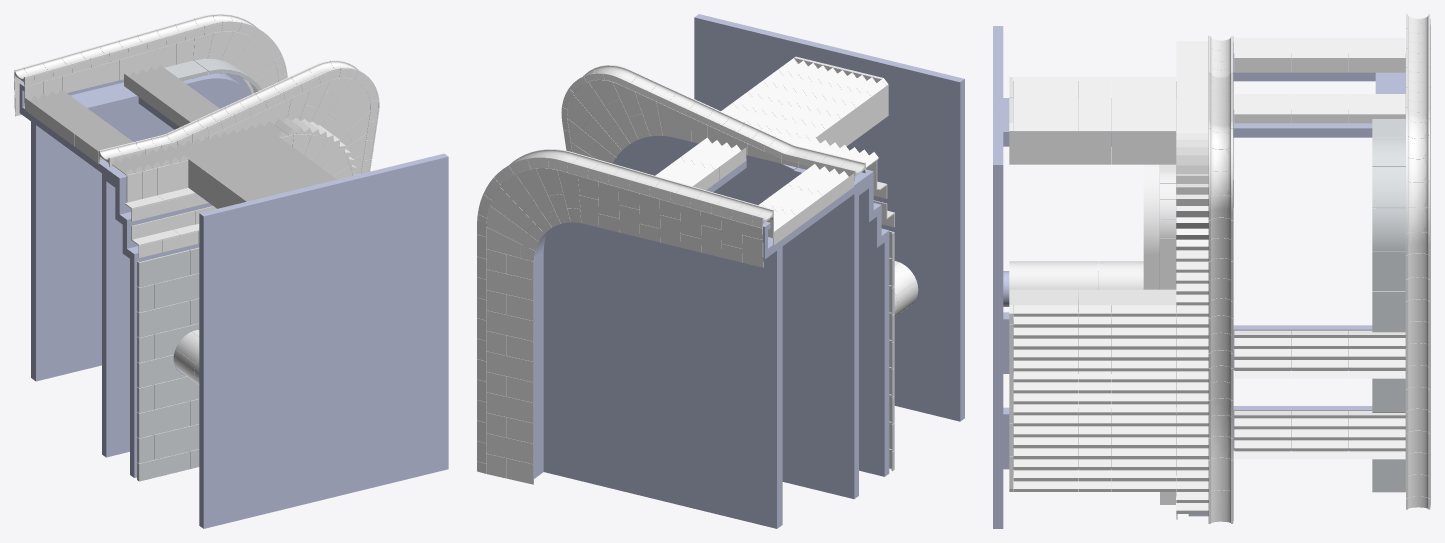
Rendered from MockUp-K1.gltf.
3 views of the same model, side by side, from view 1: azimuth 30°, elevation 25°; view 2: azimuth 150°, elevation 25°; view 3: azimuth 270°, elevation 25° (orthographic). The views are drawn at different scales.
Visible parts, largest first — view 1: NAUO1, NAUO24, NAUO28, NAUO29, NAUO15, NAUO26, NAUO27, NAUO41, NAUO44, NAUO37, NAUO30, NAUO553 (+5 smaller); view 2: NAUO1, NAUO546, NAUO691, NAUO688, NAUO673, NAUO676, NAUO674, NAUO675, NAUO677, NAUO706, NAUO715, NAUO708 (+17 smaller); view 3: NAUO1, NAUO15, NAUO399 (×2), NAUO400 (×2), NAUO401 (×2), NAUO404 (×2), NAUO406 (×2), NAUO408 (×2), NAUO403 (×2), NAUO405 (×2), NAUO407 (×2), NAUO372 (+43 smaller).
Part boxes in pixels (x1,y1,x2,y2): NAUO1: (19, 71, 448, 528); NAUO24: (137, 250, 189, 287); NAUO28: (137, 300, 189, 337); NAUO29: (137, 401, 189, 438); NAUO15: (164, 58, 262, 92); NAUO26: (154, 273, 199, 308); NAUO27: (154, 424, 199, 459); NAUO41: (154, 377, 199, 409); NAUO44: (137, 355, 184, 387); NAUO37: (137, 451, 189, 481); NAUO30: (154, 323, 199, 359); NAUO553: (329, 79, 365, 121); NAUO1: (524, 14, 964, 528); NAUO546: (573, 82, 616, 131); NAUO691: (490, 187, 533, 232); NAUO688: (516, 168, 554, 214); NAUO673: (486, 433, 519, 460); NAUO676: (486, 310, 519, 338); NAUO674: (486, 392, 519, 419); NAUO675: (486, 351, 519, 378); NAUO677: (486, 269, 519, 297); NAUO706: (598, 181, 619, 218); NAUO715: (486, 227, 521, 257); NAUO708: (639, 193, 660, 228); NAUO1: (993, 26, 1405, 528); NAUO15: (1372, 119, 1405, 492); NAUO399 (×2): (1348, 338, 1405, 429); NAUO400 (×2): (1348, 349, 1405, 440); NAUO401 (×2): (1348, 360, 1405, 451); NAUO404 (×2): (1234, 338, 1291, 429); NAUO406 (×2): (1234, 349, 1291, 440); NAUO408 (×2): (1234, 360, 1291, 451); NAUO403 (×2): (1291, 338, 1348, 429); NAUO405 (×2): (1291, 349, 1348, 440); NAUO407 (×2): (1291, 360, 1348, 451); NAUO372: (1074, 131, 1110, 164).
Bounding box in the file's own units: 8.99 × 10.74 × 10.85.
